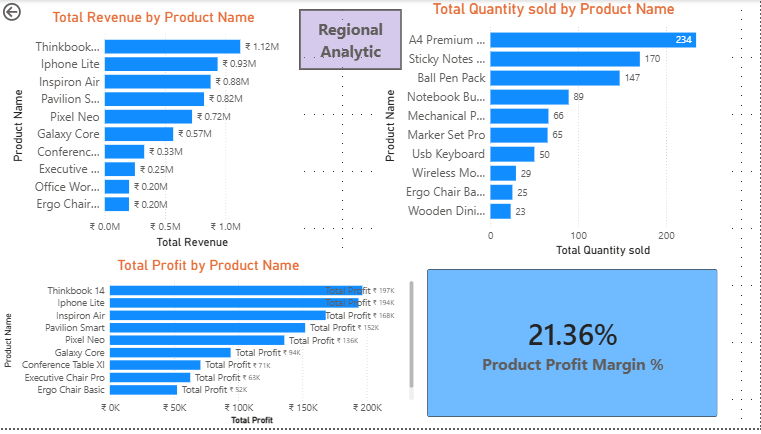

The page's visual inventory and layout, read from the dashboard file:
{"tool":"powerbi","page":{"name":"Product Analysis","canvas":[1280,720],"ordinal":3},"visuals":[{"type":"barChart","fields":{"Y":["Measures (2).Total Revenue"],"Category":["Products.Product Name"]},"box":[13.5,15.2,490.1,407.6],"z":0},{"type":"barChart","fields":{"Y":["Measures (2).Total Quantity sold"],"Category":["Products.Product Name"]},"box":[640,0,585.4,436.7],"z":1000},{"type":"barChart","fields":{"Category":["Products.Product Name"],"Y":["Measures (2).Total Profit"]},"box":[0,432.9,702.1,288],"z":2000},{"type":"cardVisual","fields":{"Data":["Measures (2).Product Profit Margin %"]},"box":[702,437,523,283],"z":3000},{"type":"actionButton","box":[503.6,15.2,173.5,102.7],"z":4000},{"type":"actionButton","box":[0,0,100,40],"z":5000}]}

Visuals, with their boxes in screenshot pixels (x1, y1, x2, y2), scaled from the page's 1280x720 canvas onto the 761x434 screenshot:
barChart - Measures (2).Total Revenue x Products.Product Name: (8,9,299,255)
barChart - Measures (2).Total Quantity sold x Products.Product Name: (380,0,729,263)
barChart - Products.Product Name x Measures (2).Total Profit: (0,261,417,433)
cardVisual - Measures (2).Product Profit Margin %: (417,263,728,433)
actionButton: (299,9,403,71)
actionButton: (0,0,59,24)
